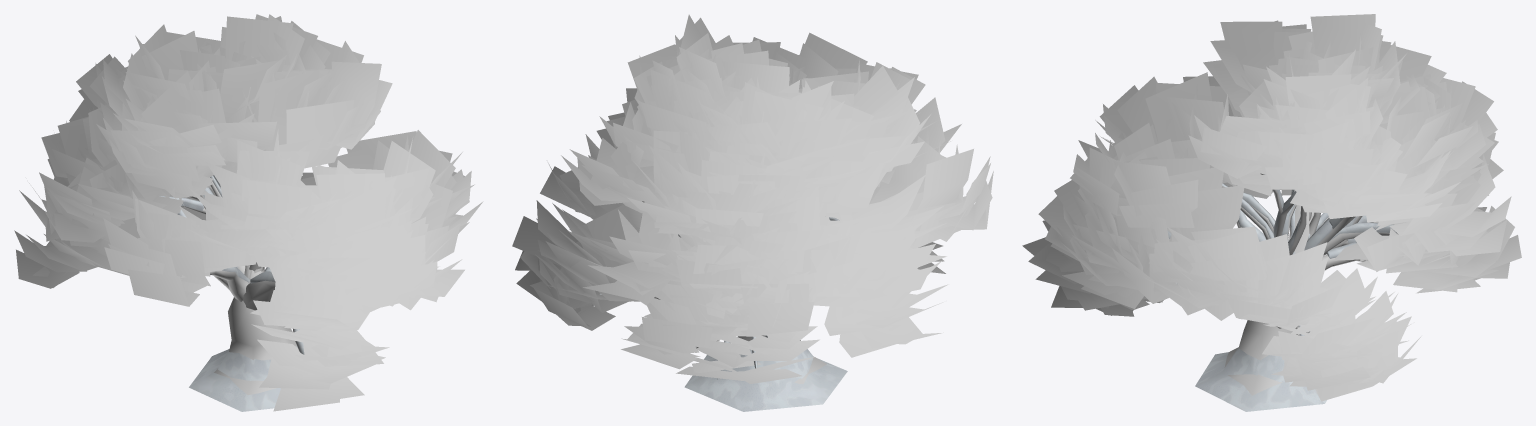
The model's file is Tree_Large_3_Snow.fbx.
3 renders of one model, left to right at view 1: azimuth 30°, elevation 25°; view 2: azimuth 150°, elevation 25°; view 3: azimuth 270°, elevation 25°, orthographic. The views are drawn at different scales.
Parts seen in each view (by area): view 1: Tree_Large_3_Snow_LOD0; view 2: Tree_Large_3_Snow_LOD0; view 3: Tree_Large_3_Snow_LOD0.
Part boxes in pixels (x1,y1,x2,y2): Tree_Large_3_Snow_LOD0: (14, 14, 483, 411); Tree_Large_3_Snow_LOD0: (512, 14, 993, 411); Tree_Large_3_Snow_LOD0: (1022, 14, 1521, 411).
Size of what is drawn, in the model's own units: 4701 by 3598 by 4842.
